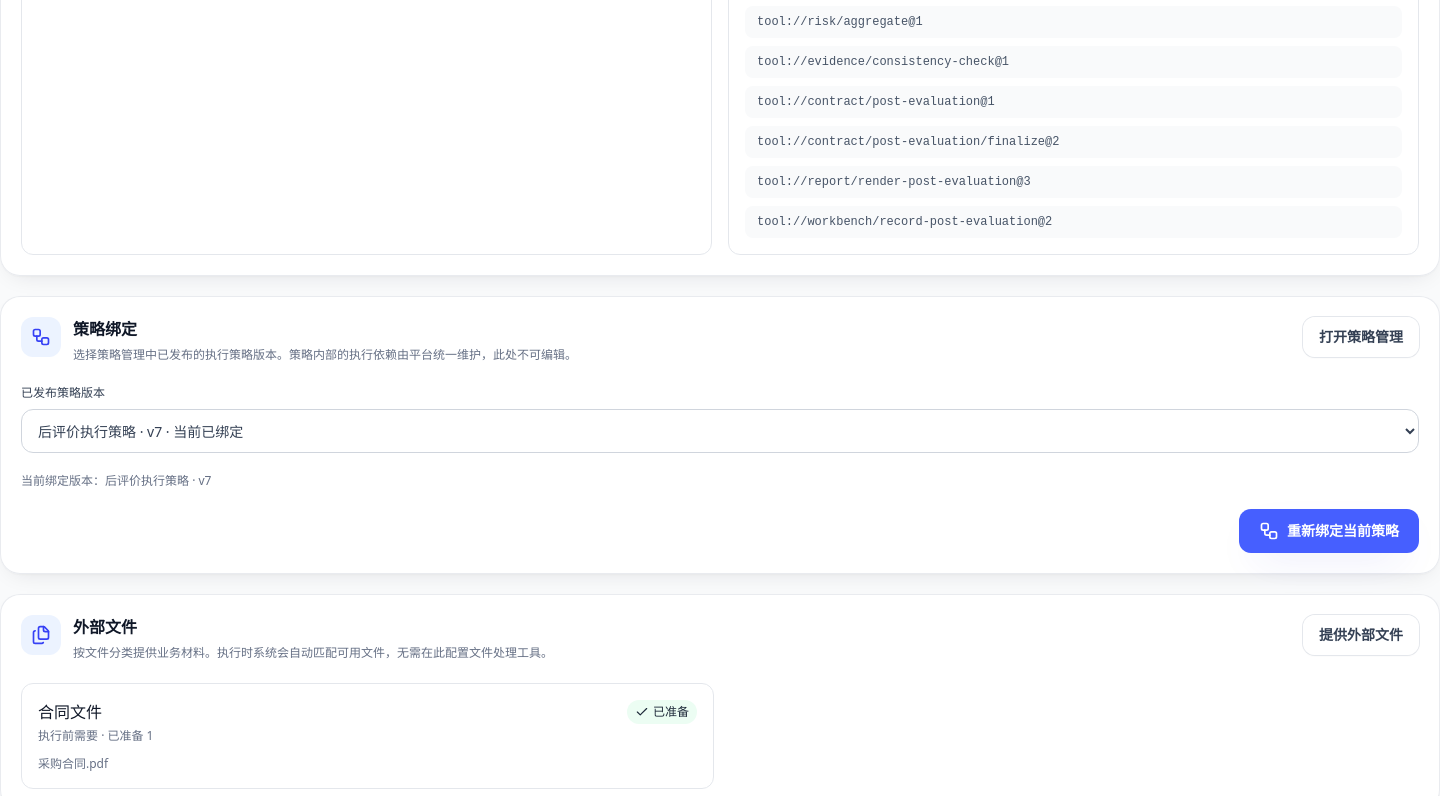
Test: business work settings configuration › binds the selected published strategy version
(page scrolled)
Click the button "重新绑定当前策略" at [1329, 531], box [1239, 509, 1419, 553]
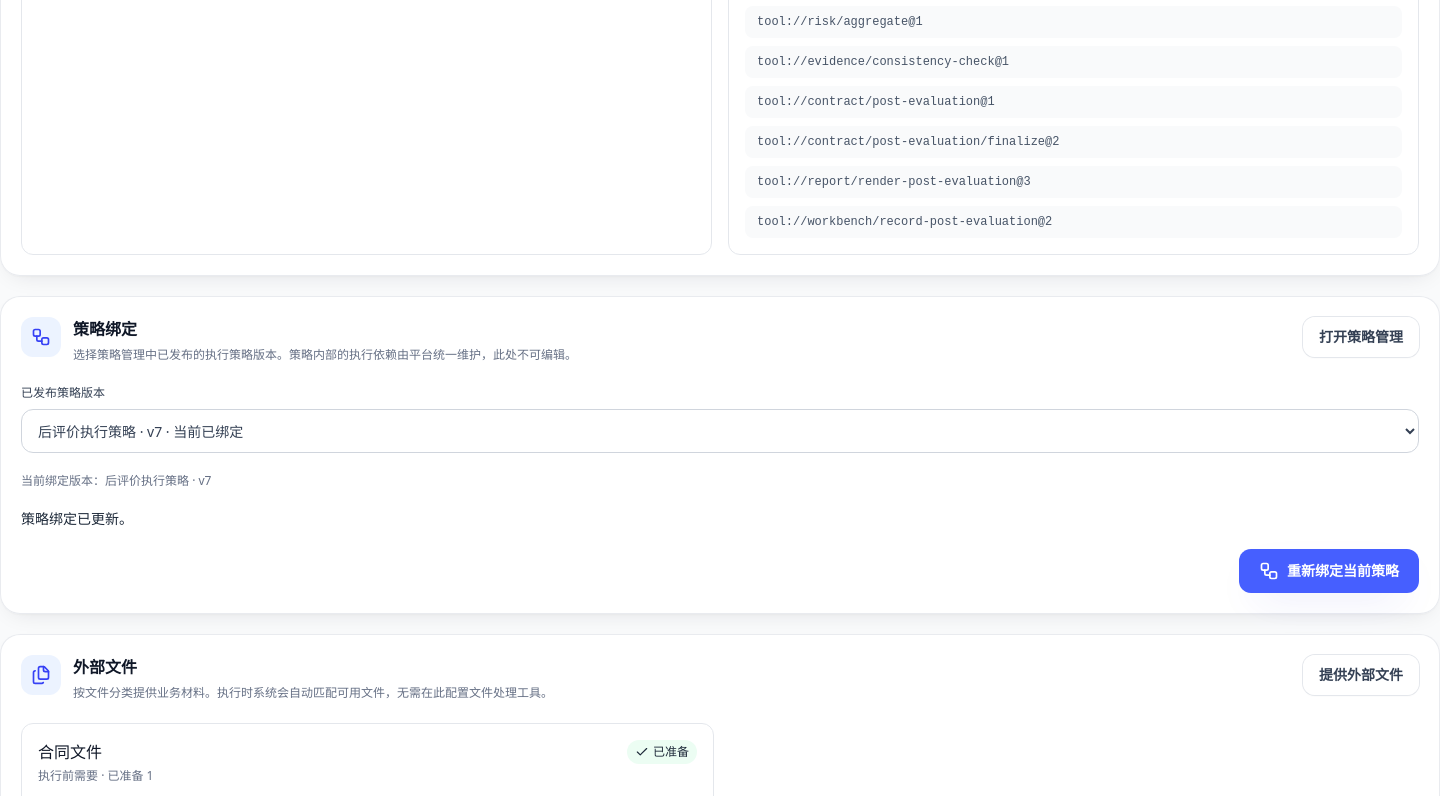
Expected: the text "策略绑定已更新。" is shown, [21, 509, 133, 528]
